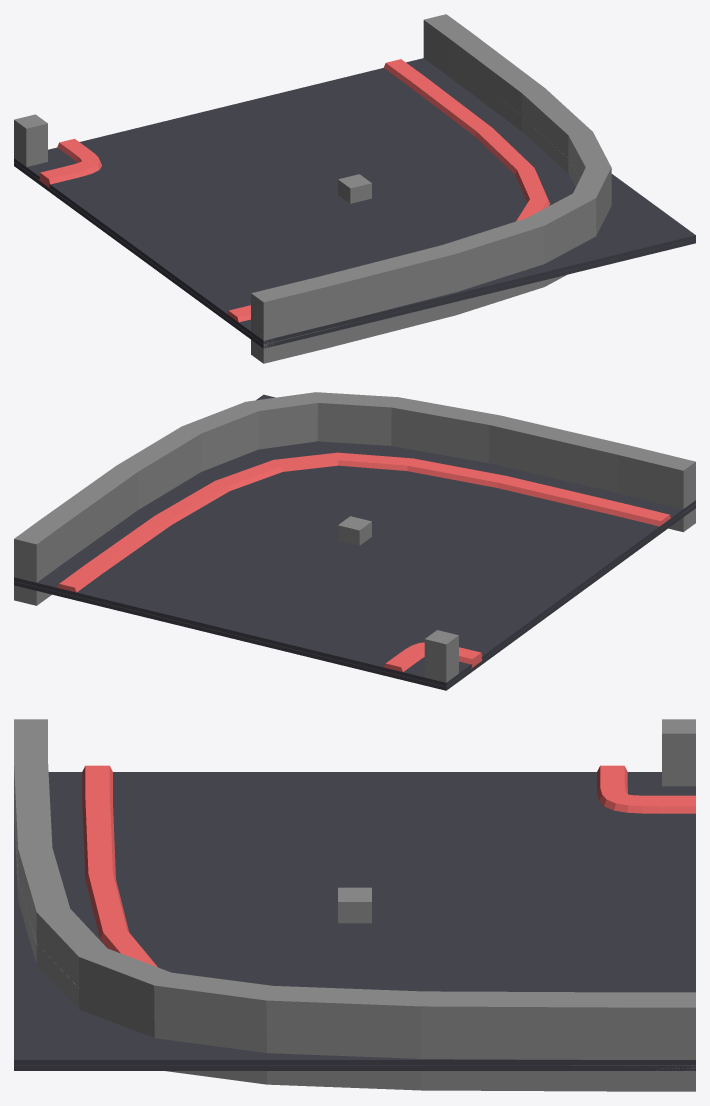
File: kartkids_base_trk_020_trn_90_r_1x1.glb
3 views of the same model, one above another, from view 1: azimuth 30°, elevation 25°; view 2: azimuth 150°, elevation 25°; view 3: azimuth 270°, elevation 25° (orthographic). The views are drawn at different scales.
Parts seen in each view (by area): view 1: kartkids_base_trk_020_trn_90_l_1x1.015, kartkids_base_trk_020_trn_90_l_1x1.016, kartkids_base_trk_020_trn_90_l_1x1.085, kartkids_base_trk_010_rd_straight_1x1.080, kartkids_base_trk_020_trn_90_l_1x1.084, kartkids_base_trk_020_trn_90_l_1x1.017, kartkids_base_trk_020_trn_90_l_1x1.086; view 2: kartkids_base_trk_020_trn_90_l_1x1.015, kartkids_base_trk_020_trn_90_l_1x1.016, kartkids_base_trk_010_rd_straight_1x1.080, kartkids_base_trk_020_trn_90_l_1x1.085, kartkids_base_trk_020_trn_90_l_1x1.084, kartkids_base_trk_020_trn_90_l_1x1.017, kartkids_base_trk_020_trn_90_l_1x1.086; view 3: kartkids_base_trk_020_trn_90_l_1x1.015, kartkids_base_trk_020_trn_90_l_1x1.016, kartkids_base_trk_020_trn_90_l_1x1.085, kartkids_base_trk_010_rd_straight_1x1.080, kartkids_base_trk_020_trn_90_l_1x1.084, kartkids_base_trk_020_trn_90_l_1x1.017, kartkids_base_trk_020_trn_90_l_1x1.086.
Part boxes in pixels (x1=…): kartkids_base_trk_020_trn_90_l_1x1.015: x1=14, y1=58, x2=695, y2=344; kartkids_base_trk_020_trn_90_l_1x1.016: x1=251, y1=14, x2=611, y2=340; kartkids_base_trk_020_trn_90_l_1x1.085: x1=251, y1=43, x2=611, y2=363; kartkids_base_trk_010_rd_straight_1x1.080: x1=227, y1=59, x2=549, y2=322; kartkids_base_trk_020_trn_90_l_1x1.084: x1=14, y1=162, x2=695, y2=348; kartkids_base_trk_020_trn_90_l_1x1.017: x1=14, y1=114, x2=47, y2=166; kartkids_base_trk_020_trn_90_l_1x1.086: x1=338, y1=174, x2=371, y2=203; kartkids_base_trk_020_trn_90_l_1x1.015: x1=14, y1=394, x2=695, y2=686; kartkids_base_trk_020_trn_90_l_1x1.016: x1=14, y1=392, x2=695, y2=582; kartkids_base_trk_010_rd_straight_1x1.080: x1=57, y1=452, x2=670, y2=592; kartkids_base_trk_020_trn_90_l_1x1.085: x1=14, y1=426, x2=695, y2=605; kartkids_base_trk_020_trn_90_l_1x1.084: x1=14, y1=504, x2=695, y2=690; kartkids_base_trk_020_trn_90_l_1x1.017: x1=424, y1=630, x2=458, y2=682; kartkids_base_trk_020_trn_90_l_1x1.086: x1=338, y1=516, x2=371, y2=545; kartkids_base_trk_020_trn_90_l_1x1.015: x1=14, y1=765, x2=695, y2=1065; kartkids_base_trk_020_trn_90_l_1x1.016: x1=14, y1=719, x2=695, y2=1059; kartkids_base_trk_020_trn_90_l_1x1.085: x1=14, y1=804, x2=695, y2=1091; kartkids_base_trk_010_rd_straight_1x1.080: x1=82, y1=765, x2=157, y2=967; kartkids_base_trk_020_trn_90_l_1x1.084: x1=14, y1=1065, x2=695, y2=1070; kartkids_base_trk_020_trn_90_l_1x1.017: x1=662, y1=719, x2=695, y2=786; kartkids_base_trk_020_trn_90_l_1x1.086: x1=338, y1=887, x2=371, y2=923.
Bounding box in the file's own units: 10 × 1.36 × 10.
